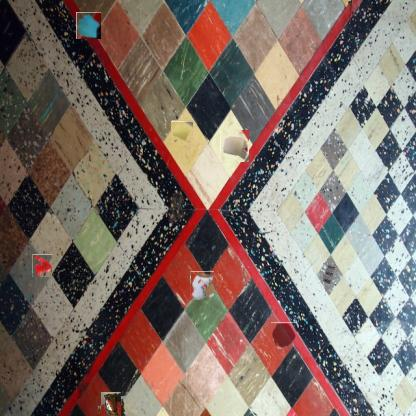dirty: (220, 131, 249, 162), (190, 271, 214, 300), (76, 12, 101, 39), (98, 393, 123, 416), (172, 121, 193, 142), (322, 262, 336, 284)
liquid: (271, 322, 297, 349), (32, 254, 52, 277)
